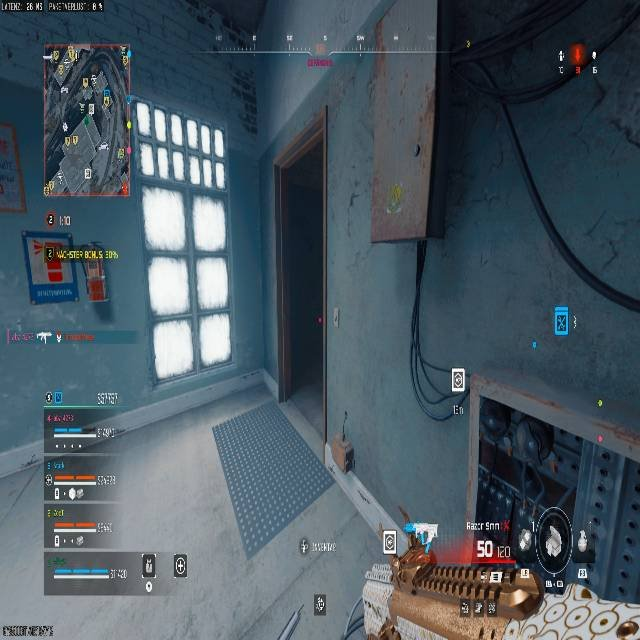head: (55, 1, 640, 637)
